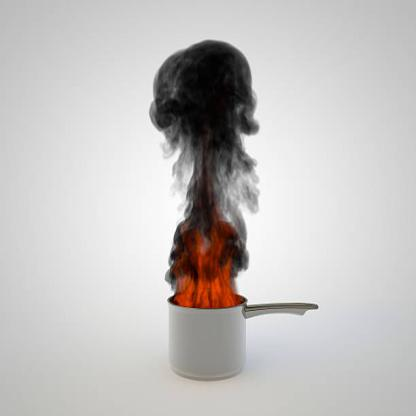fire: (169, 166, 243, 307)
smoke: (149, 44, 264, 273)
